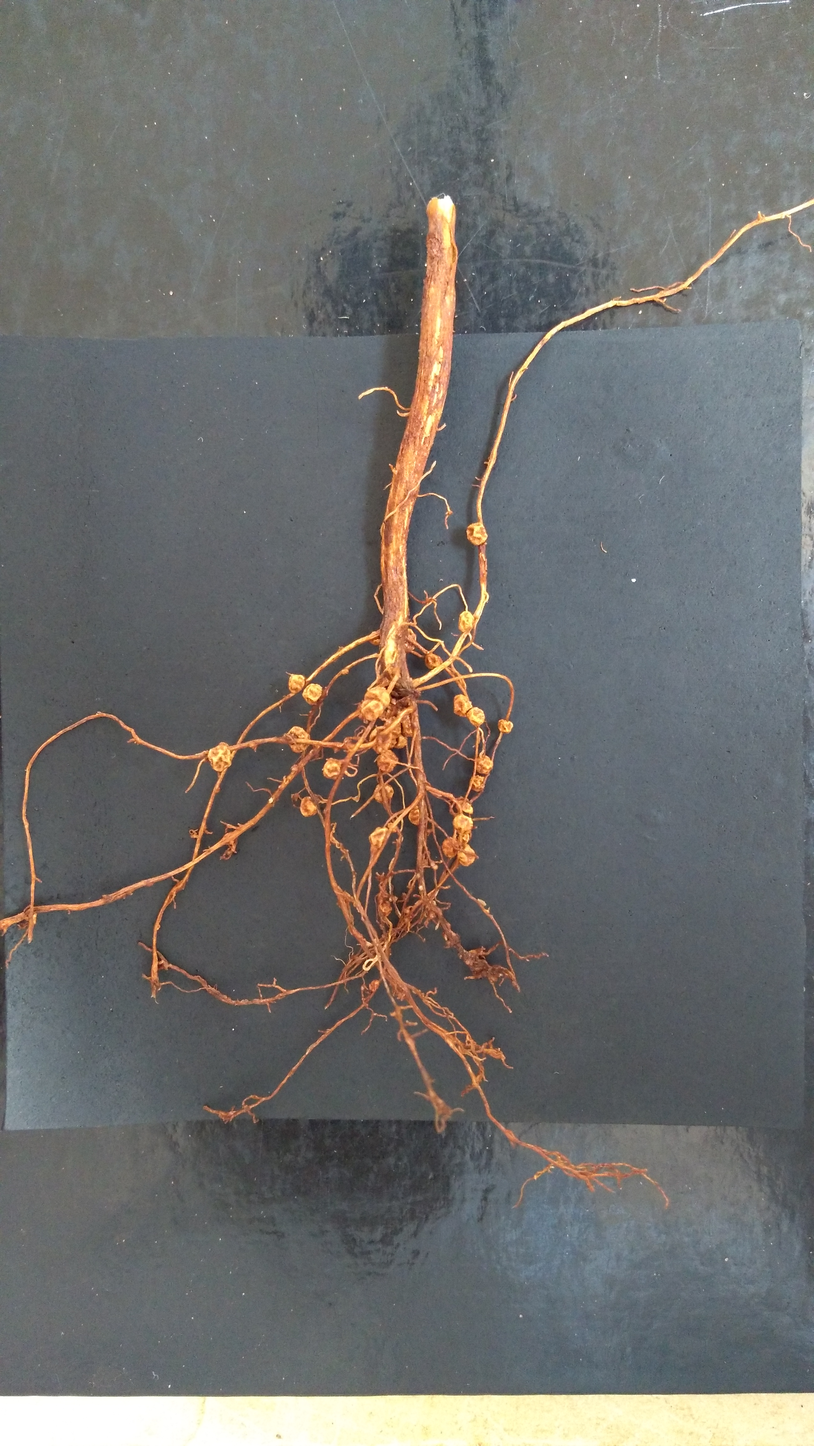nodule: (206, 740, 233, 773), (286, 724, 311, 755), (368, 725, 393, 753), (383, 715, 403, 750), (464, 521, 489, 548), (375, 748, 400, 775), (363, 686, 391, 710), (360, 697, 385, 722), (456, 842, 478, 869), (451, 693, 473, 718), (456, 609, 477, 635), (372, 781, 395, 804), (301, 682, 323, 706), (322, 756, 342, 782), (451, 814, 474, 835), (367, 825, 387, 849), (299, 794, 318, 819), (473, 754, 494, 775), (465, 706, 486, 727), (287, 673, 306, 695), (441, 835, 459, 858), (423, 652, 444, 671), (400, 713, 414, 739), (468, 774, 486, 793), (404, 627, 417, 653), (497, 718, 514, 737), (454, 799, 474, 814), (408, 804, 421, 827), (367, 630, 383, 648), (395, 734, 409, 750), (378, 900, 392, 916), (368, 978, 380, 992), (387, 822, 399, 834), (340, 669, 350, 676)
